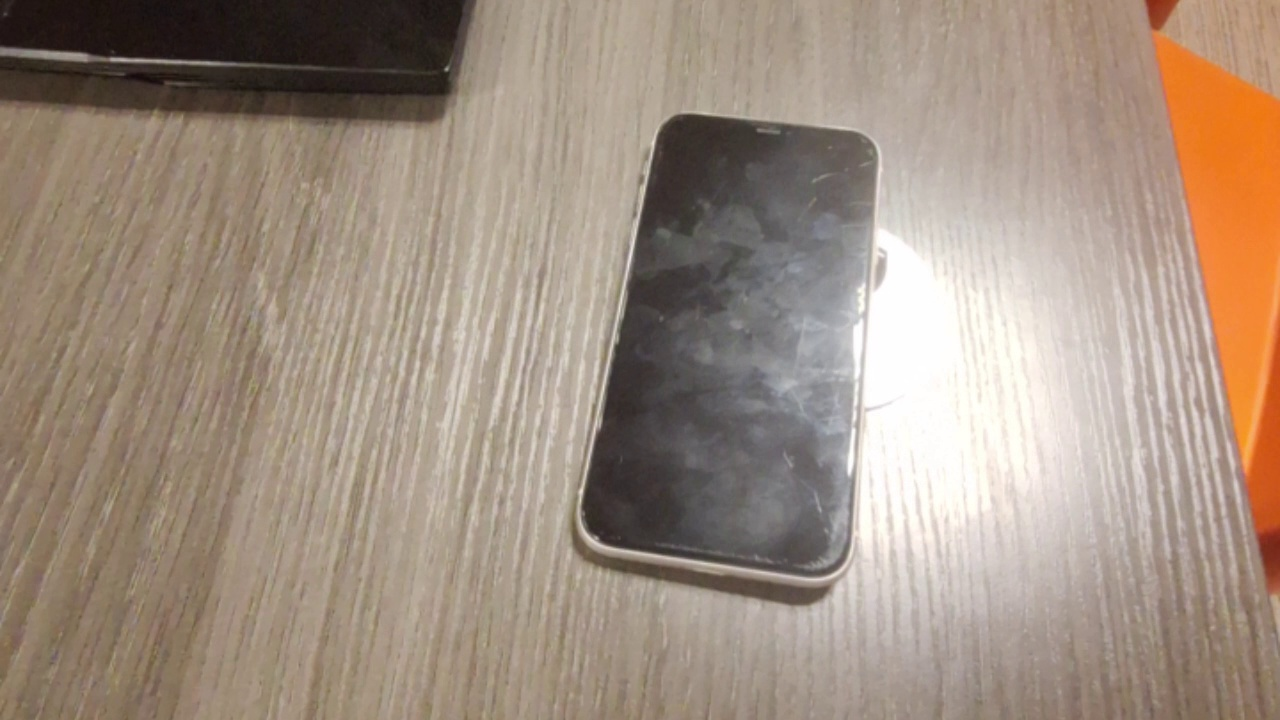celular: (573, 112, 883, 603)
